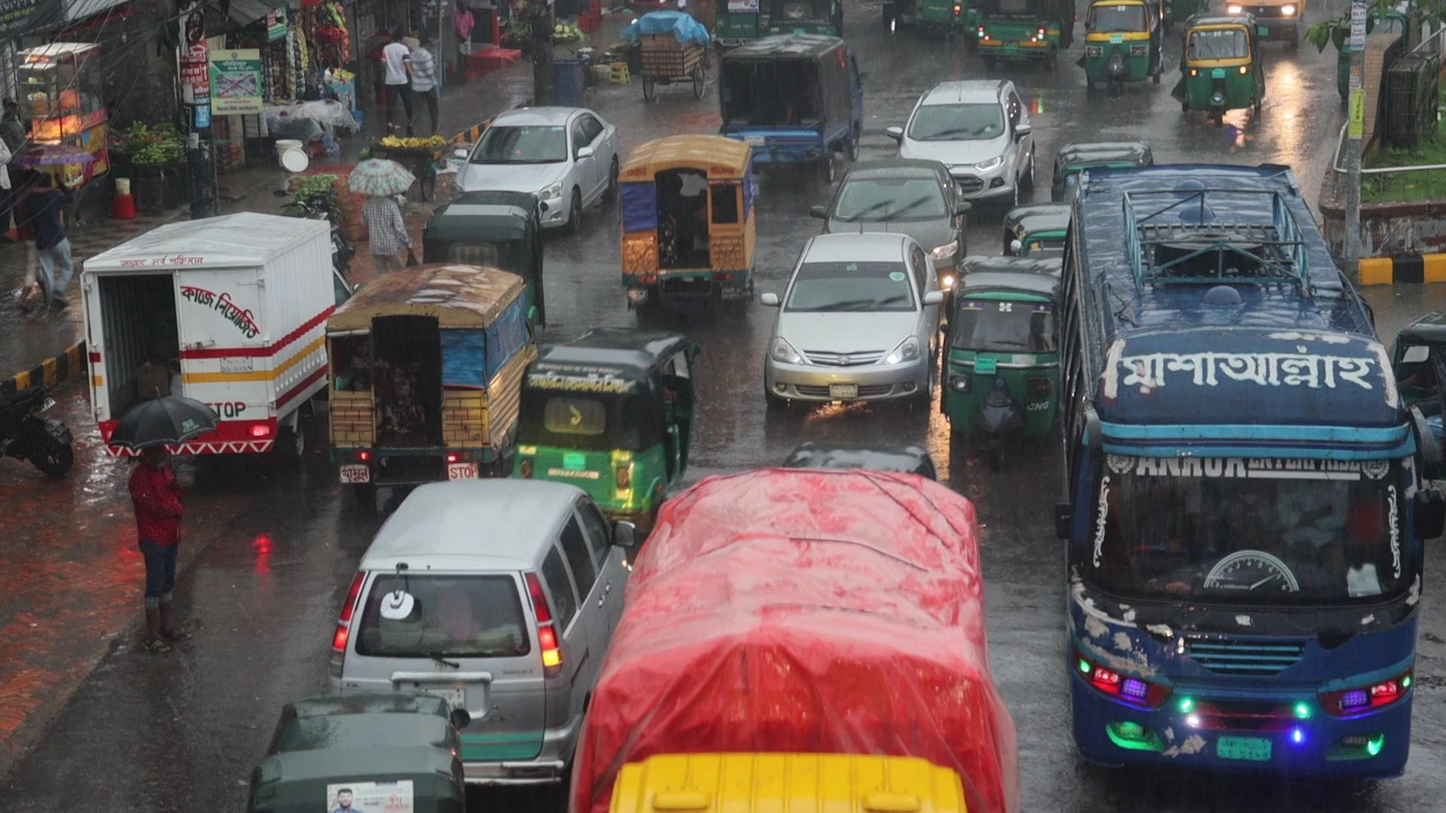Bus: (1059, 156, 1441, 797)
Car: (326, 472, 634, 698), (758, 228, 943, 410), (447, 102, 619, 196), (887, 78, 1036, 183), (808, 158, 970, 247)
Truck: (584, 465, 989, 813), (322, 262, 523, 478), (616, 130, 756, 316), (717, 32, 872, 150)
